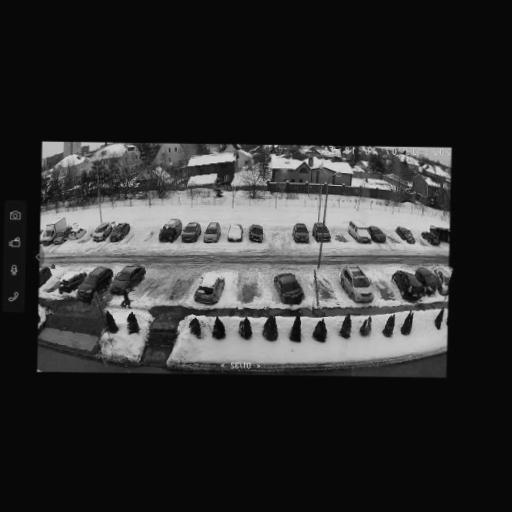busy: (173, 150, 255, 187), (44, 266, 101, 304), (188, 272, 231, 307), (338, 265, 377, 303), (108, 264, 146, 300), (77, 264, 115, 299), (270, 270, 307, 304), (390, 268, 424, 304), (415, 266, 440, 297), (431, 265, 452, 300), (155, 219, 182, 245), (103, 223, 135, 243), (87, 222, 117, 242), (287, 223, 313, 244), (196, 223, 222, 244), (245, 224, 268, 245), (393, 226, 419, 244), (64, 225, 88, 244), (222, 224, 245, 242), (421, 229, 441, 246), (367, 227, 388, 243)
free: (306, 268, 335, 307), (236, 277, 271, 303), (145, 269, 171, 302), (371, 271, 396, 303), (165, 271, 187, 305), (42, 269, 63, 295), (330, 226, 350, 249), (266, 227, 288, 245), (134, 228, 158, 243), (79, 225, 97, 245), (386, 226, 401, 247), (411, 229, 426, 250)
